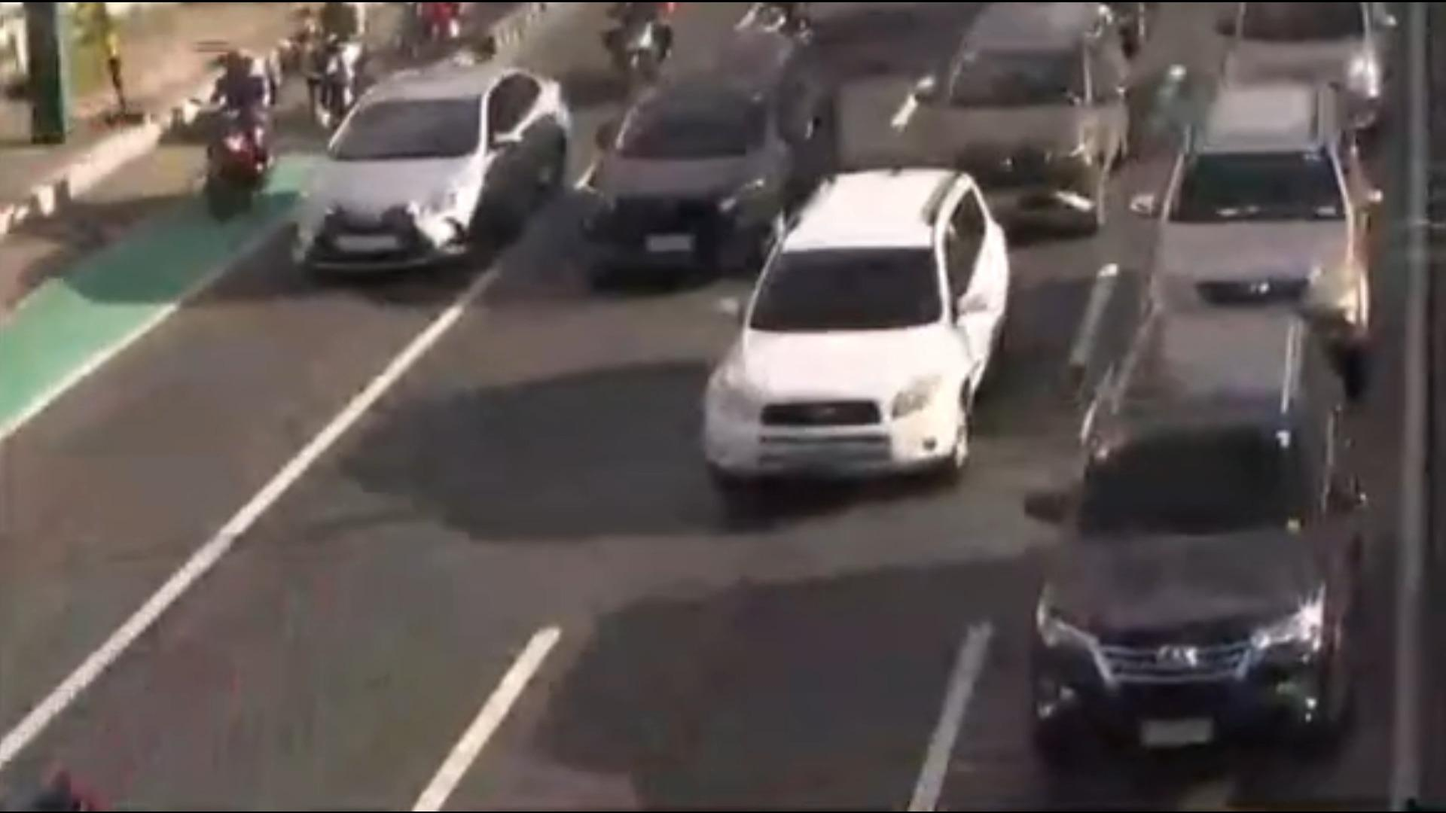Motorcycle: (166, 54, 295, 217), (296, 0, 373, 122), (608, 0, 697, 69), (409, 0, 479, 50), (769, 2, 829, 47)
SUV: (1003, 301, 1390, 780), (680, 157, 1045, 521), (555, 40, 863, 282), (1149, 89, 1396, 374)
Sedan: (280, 57, 577, 295)
